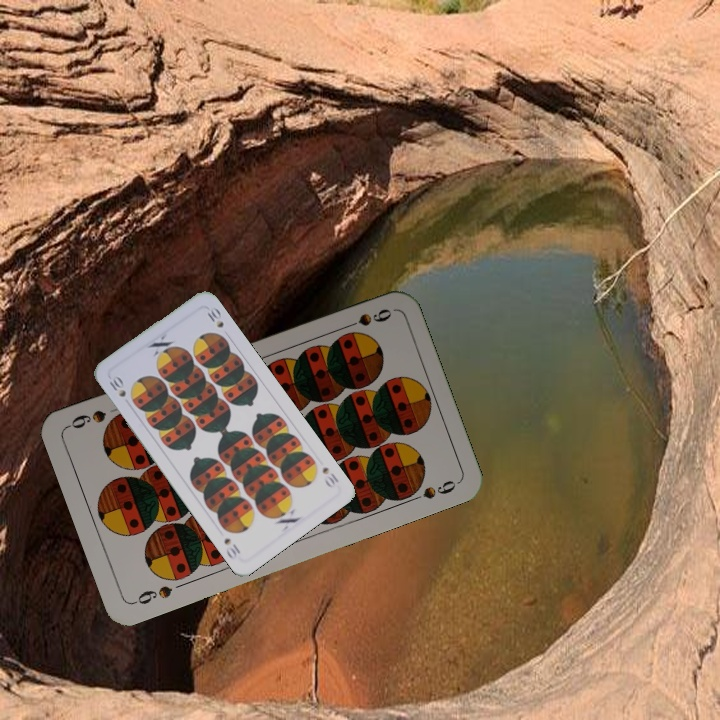S10: (105, 373, 129, 400), (318, 463, 342, 490)
S9: (337, 304, 395, 333), (129, 581, 175, 607)
